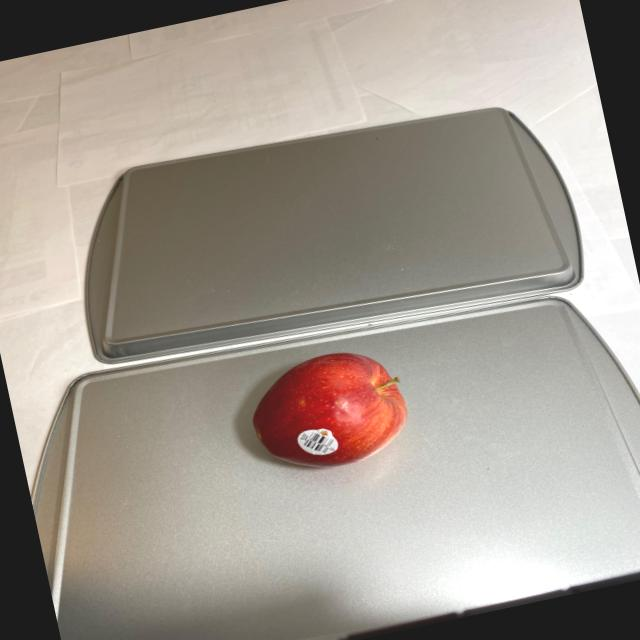apple: (239, 339, 419, 480)
